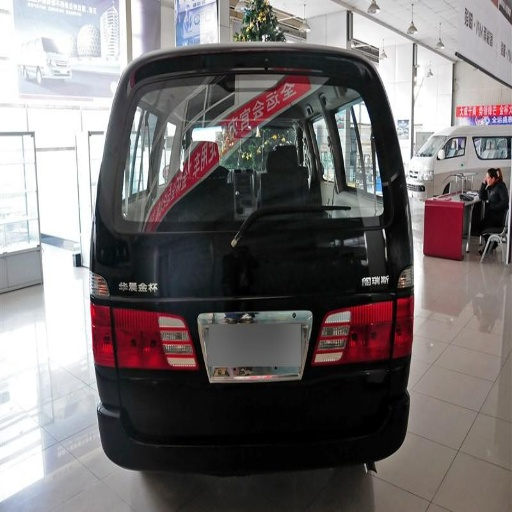back_bumper: (97, 359, 410, 504)
tailgate: (187, 318, 286, 392), (232, 238, 366, 287), (110, 289, 155, 369)
trunk: (166, 282, 324, 383)
